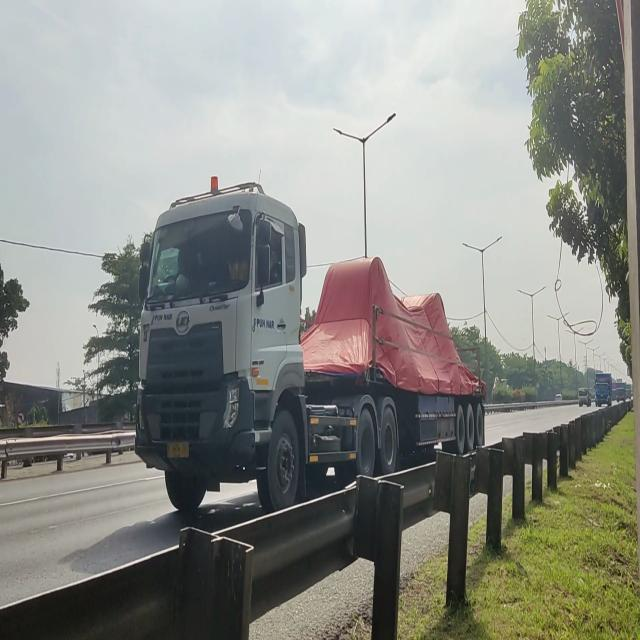Golongan V: (132, 173, 488, 511)
